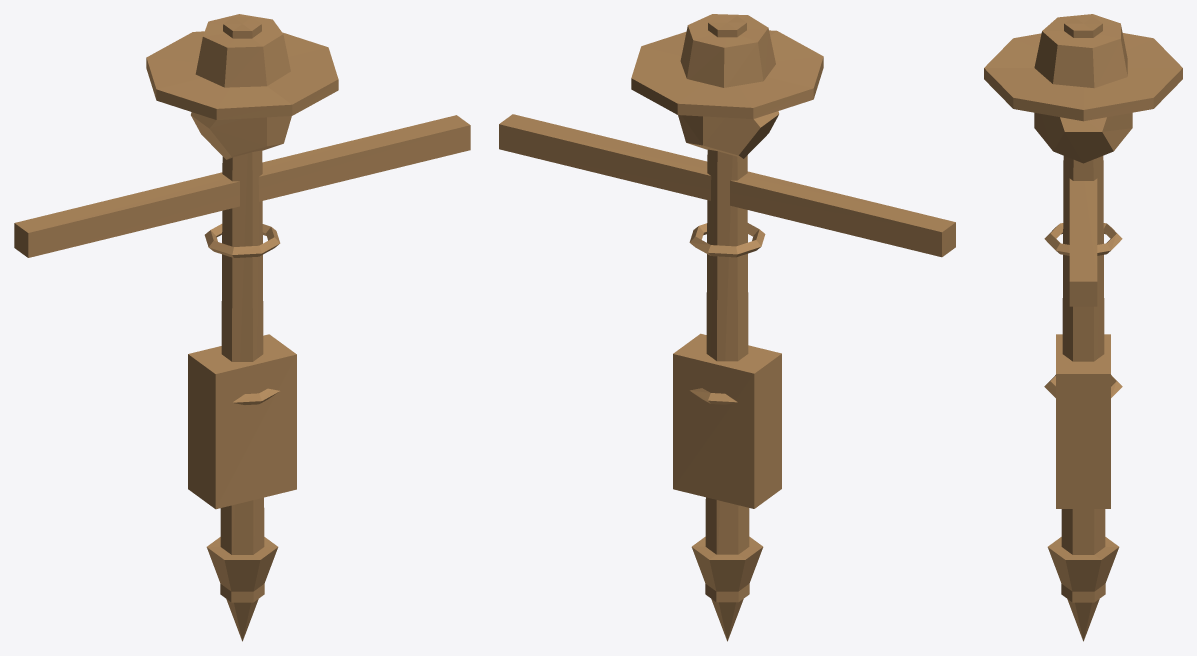
File: Scarecrow.glb
The picture shows the model from 3 angles, left to right: view 1: azimuth 30°, elevation 25°; view 2: azimuth 150°, elevation 25°; view 3: azimuth 270°, elevation 25°; orthographic projection.
Visible parts, largest first — view 1: wind-pump-static-scarecrow-timber, wind-pump-static-scarecrow-straw, wind-pump-static-scarecrow-cloth-trousers, wind-pump-static-scarecrow-rope; view 2: wind-pump-static-scarecrow-timber, wind-pump-static-scarecrow-straw, wind-pump-static-scarecrow-cloth-trousers, wind-pump-static-scarecrow-rope; view 3: wind-pump-static-scarecrow-straw, wind-pump-static-scarecrow-timber, wind-pump-static-scarecrow-cloth-trousers, wind-pump-static-scarecrow-rope.
Part boxes in pixels (left/top/right/bottom): wind-pump-static-scarecrow-timber: left=14, top=17, right=470, bottom=641; wind-pump-static-scarecrow-straw: left=146, top=14, right=338, bottom=159; wind-pump-static-scarecrow-cloth-trousers: left=188, top=334, right=296, bottom=509; wind-pump-static-scarecrow-rope: left=204, top=224, right=280, bottom=404; wind-pump-static-scarecrow-timber: left=499, top=15, right=955, bottom=641; wind-pump-static-scarecrow-straw: left=631, top=14, right=823, bottom=158; wind-pump-static-scarecrow-cloth-trousers: left=673, top=333, right=781, bottom=508; wind-pump-static-scarecrow-rope: left=689, top=223, right=765, bottom=404; wind-pump-static-scarecrow-straw: left=984, top=14, right=1182, bottom=163; wind-pump-static-scarecrow-timber: left=1047, top=16, right=1119, bottom=641; wind-pump-static-scarecrow-cloth-trousers: left=1056, top=334, right=1110, bottom=508; wind-pump-static-scarecrow-rope: left=1044, top=223, right=1122, bottom=397.
Bounding box in the file's own units: 1.85 × 2.47 × 0.72.
